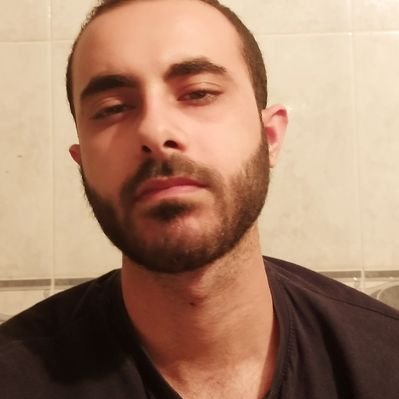NoMask: (74, 51, 245, 264)
